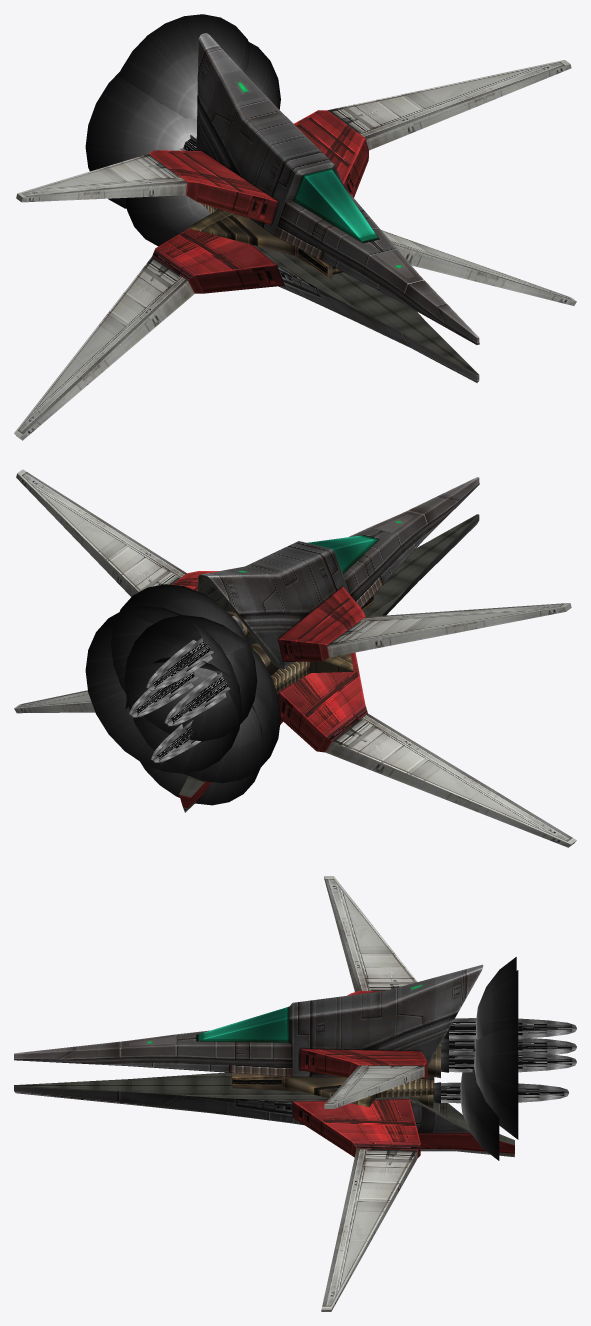
File: WpnWolfWolfen.obj
The picture shows the model from 3 angles, top to bottom: view 1: azimuth 30°, elevation 25°; view 2: azimuth 150°, elevation 25°; view 3: azimuth 270°, elevation 25°; orthographic projection. The views are drawn at different scales.
Visible parts, largest first — view 1: polygon0, polygon8, polygon10, polygon1, polygon9, polygon11; view 2: polygon0, polygon10, polygon8, polygon11, polygon1, polygon3, polygon2, polygon9; view 3: polygon0, polygon1, polygon3, polygon11, polygon2, polygon8, polygon9.
Boxes of the visible parts, left/top/right/bottom form: polygon0: left=14, top=33, right=576, bottom=440; polygon8: left=118, top=14, right=249, bottom=120; polygon10: left=85, top=72, right=196, bottom=208; polygon1: left=253, top=245, right=478, bottom=374; polygon9: left=125, top=195, right=211, bottom=246; polygon11: left=245, top=42, right=280, bottom=109; polygon0: left=14, top=469, right=576, bottom=847; polygon10: left=124, top=615, right=280, bottom=783; polygon8: left=111, top=584, right=257, bottom=741; polygon11: left=85, top=605, right=242, bottom=773; polygon1: left=179, top=514, right=478, bottom=797; polygon3: left=129, top=638, right=229, bottom=762; polygon2: left=135, top=641, right=227, bottom=760; polygon9: left=125, top=657, right=263, bottom=805; polygon0: left=14, top=876, right=514, bottom=1311; polygon1: left=14, top=1072, right=514, bottom=1144; polygon3: left=441, top=1018, right=576, bottom=1103; polygon11: left=474, top=987, right=518, bottom=1139; polygon2: left=441, top=1022, right=571, bottom=1099; polygon8: left=476, top=957, right=516, bottom=1039; polygon9: left=460, top=1048, right=499, bottom=1160.
Size of the model in its own units: 109 by 51.35 by 112.
